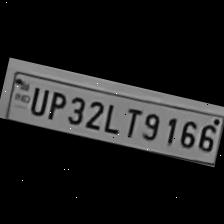1: (158, 112, 181, 148)
2: (82, 94, 107, 130)
3: (63, 91, 89, 127)
6: (193, 118, 219, 154), (174, 115, 199, 149)
9: (136, 106, 164, 144)
L: (100, 98, 124, 134)
P: (43, 86, 70, 122)
T: (118, 103, 143, 139)
U: (26, 82, 50, 116)
